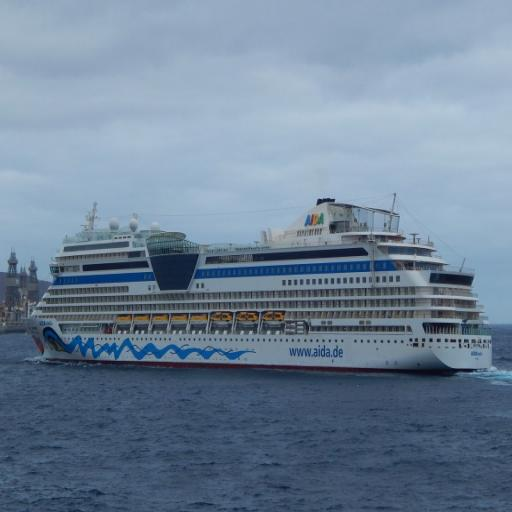cruises: (26, 189, 496, 385)
